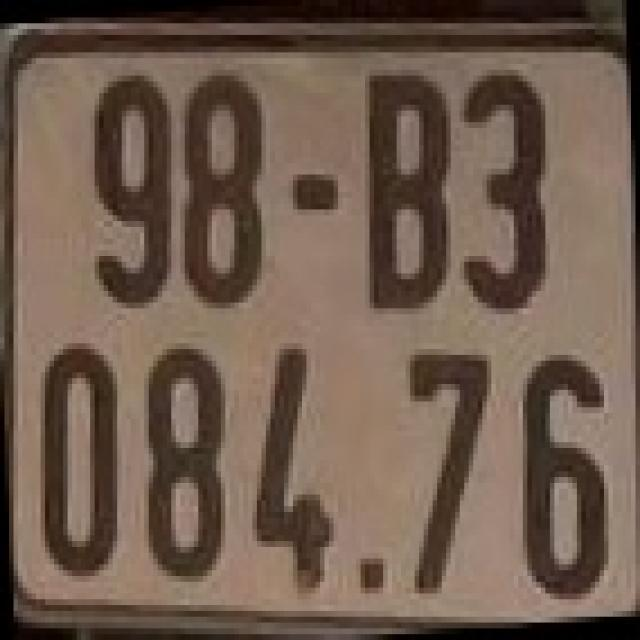0: (36, 337, 126, 582)
3: (456, 58, 554, 314)
4: (248, 338, 342, 594)
6: (510, 343, 612, 600)
7: (396, 343, 496, 600)
8: (176, 64, 275, 314), (140, 337, 230, 582)
9: (81, 64, 176, 308)
B: (352, 58, 459, 320)
